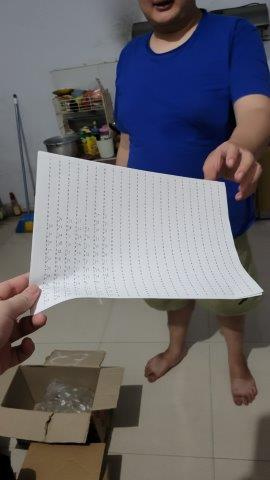kertas: (21, 151, 265, 315)
